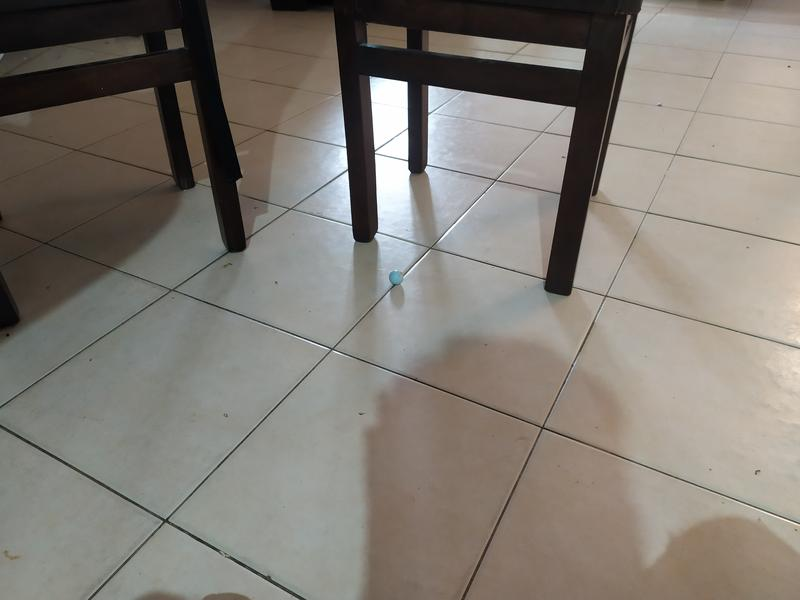Warning: (387, 268, 405, 286)
